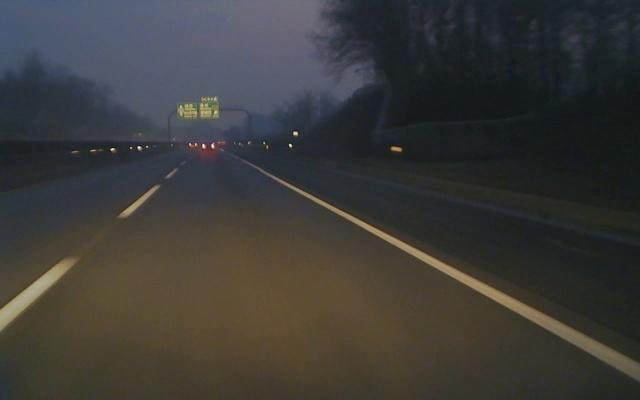lane: (236, 157, 640, 383), (0, 161, 189, 335)
